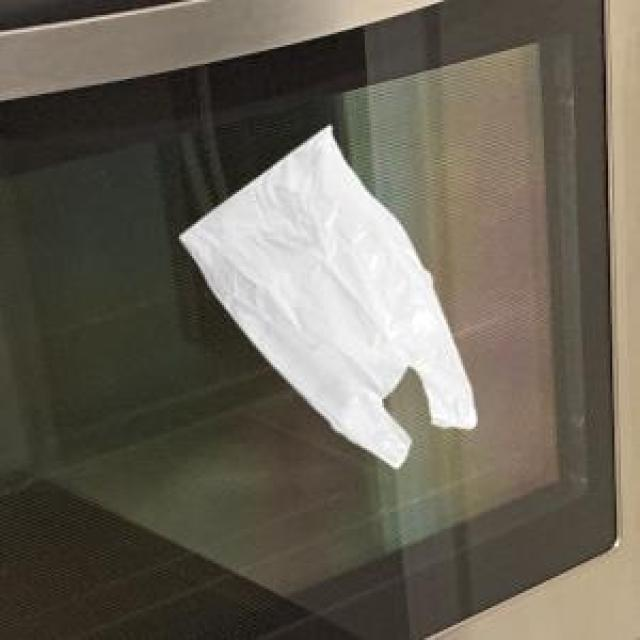waste: (180, 126, 474, 468)
